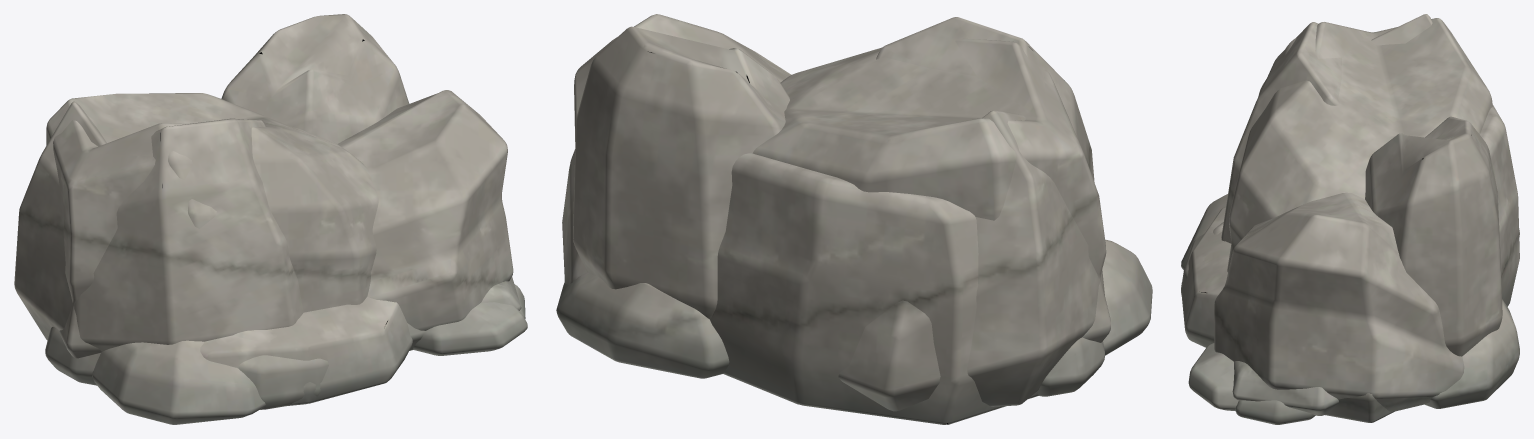
The model's file is shore-rock.glb.
3 renders of one model, left to right at view 1: azimuth 30°, elevation 25°; view 2: azimuth 150°, elevation 25°; view 3: azimuth 270°, elevation 25°, orthographic. The views are drawn at different scales.
Visible parts, largest first — view 1: shore-rock-split, shore-rock-shear, shore-rock-shelf; view 2: shore-rock-shelf, shore-rock-shear, shore-rock-split; view 3: shore-rock-split, shore-rock-shear, shore-rock-shelf.
Part boxes in pixels (x1,y1,x2,y2): shore-rock-split: [14, 90, 527, 409]; shore-rock-shear: [46, 93, 525, 424]; shore-rock-shelf: [45, 14, 412, 406]; shore-rock-shelf: [573, 26, 1104, 424]; shore-rock-shear: [556, 38, 1152, 378]; shore-rock-split: [562, 14, 1104, 411]; shore-rock-split: [1181, 14, 1519, 411]; shore-rock-shear: [1181, 18, 1519, 424]; shore-rock-shelf: [1181, 105, 1519, 422].
Size of the model in its own units: 2.3 by 1.27 by 1.6.
Materials: 1 (1 with a texture image).
